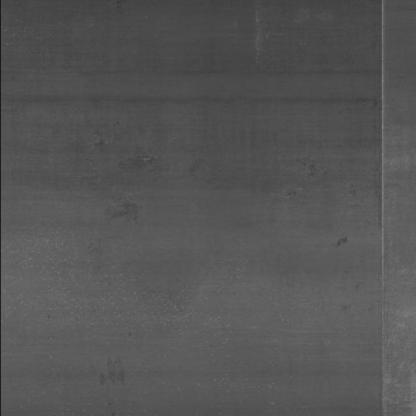welding_line: (370, 4, 398, 416)
